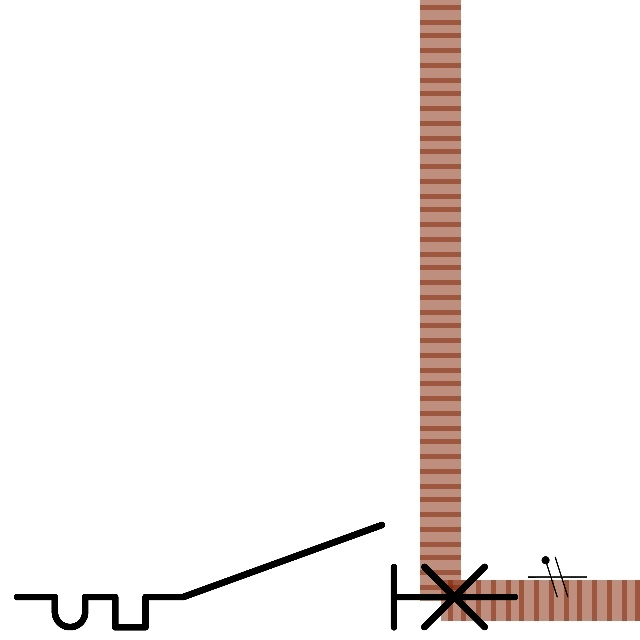interruptor_termomagnetico: (4, 512, 528, 640)
